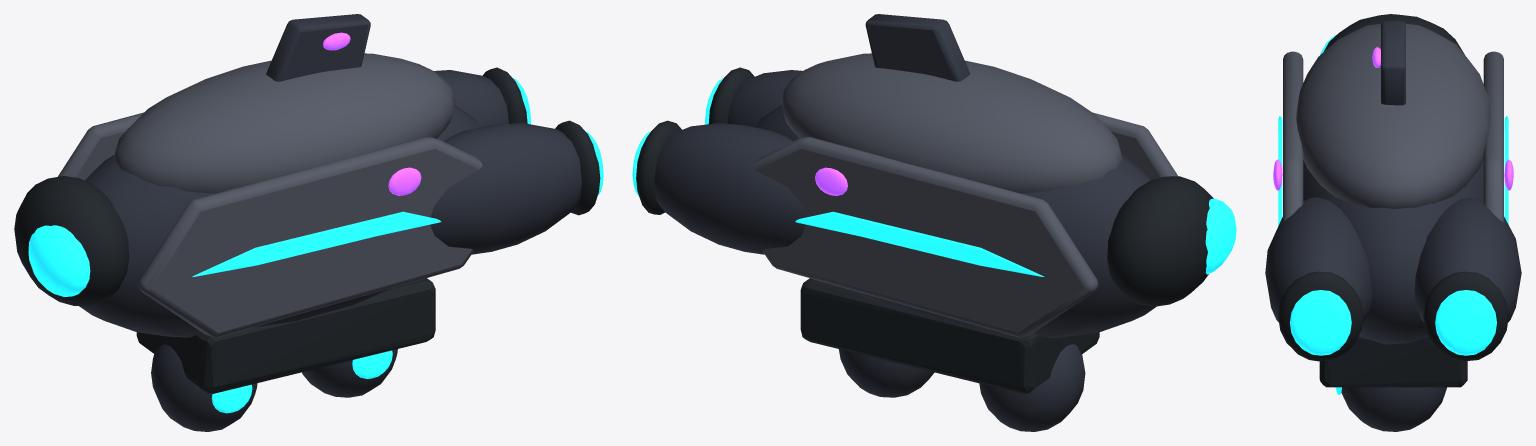
The model's file is alien_armoured_bomber.glb.
3 renders of one model, left to right at view 1: azimuth 30°, elevation 25°; view 2: azimuth 150°, elevation 25°; view 3: azimuth 270°, elevation 25°, orthographic.
Parts seen in each view (by area): view 1: AlienControlDeviceGeometry; view 2: AlienControlDeviceGeometry; view 3: AlienControlDeviceGeometry.
Part boxes in pixels (x1,y1,x2,y2): AlienControlDeviceGeometry: (14, 14, 603, 431); AlienControlDeviceGeometry: (632, 14, 1236, 431); AlienControlDeviceGeometry: (1265, 14, 1521, 431).
Bounding box in the file's own units: 2.89 × 1.98 × 1.2.
